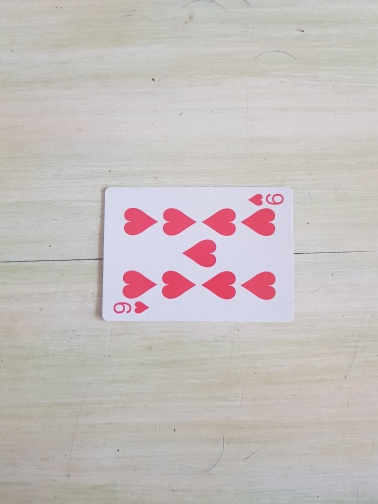nine: (100, 185, 296, 323)
